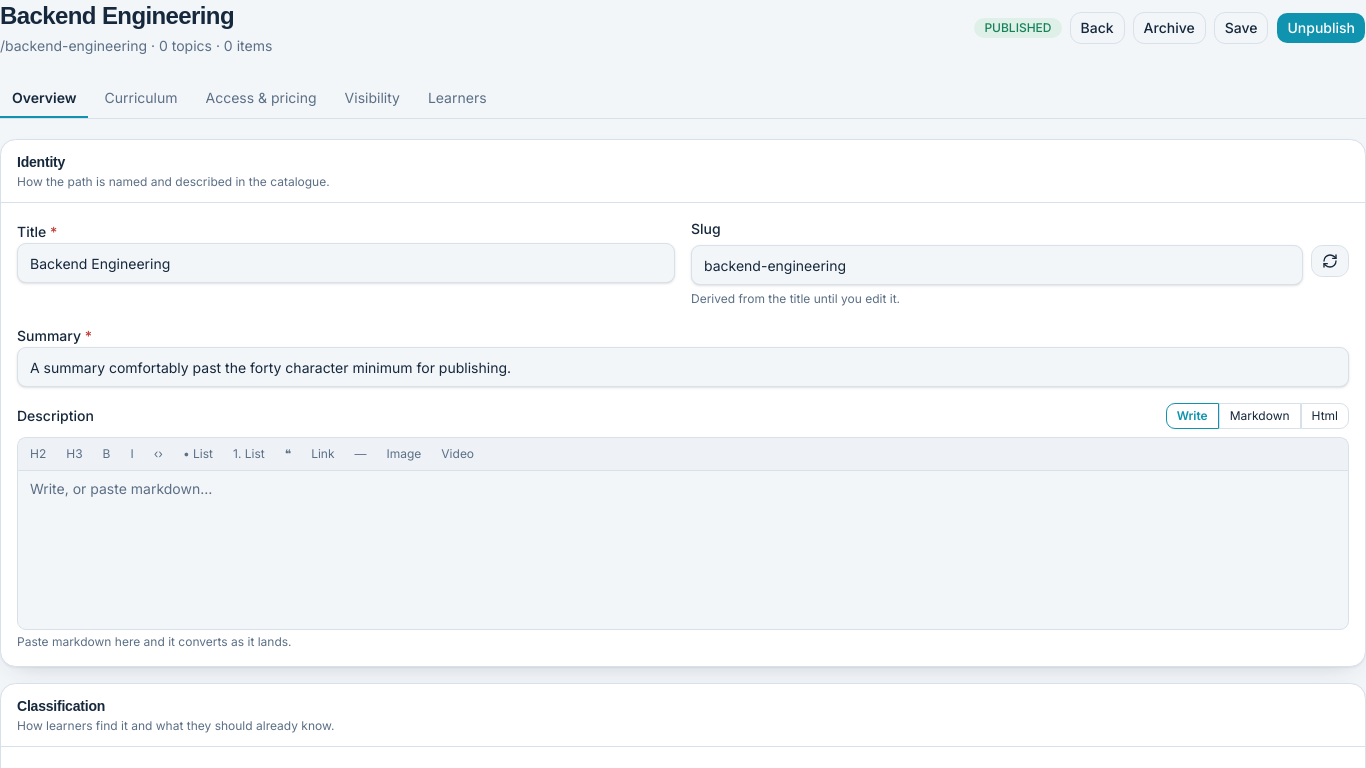
Test: PathDetailClient — Author field gating › still renders the Author control for an admin
Click the tab "Visibility" at (372,99), box left=333, top=80, right=412, bottom=118
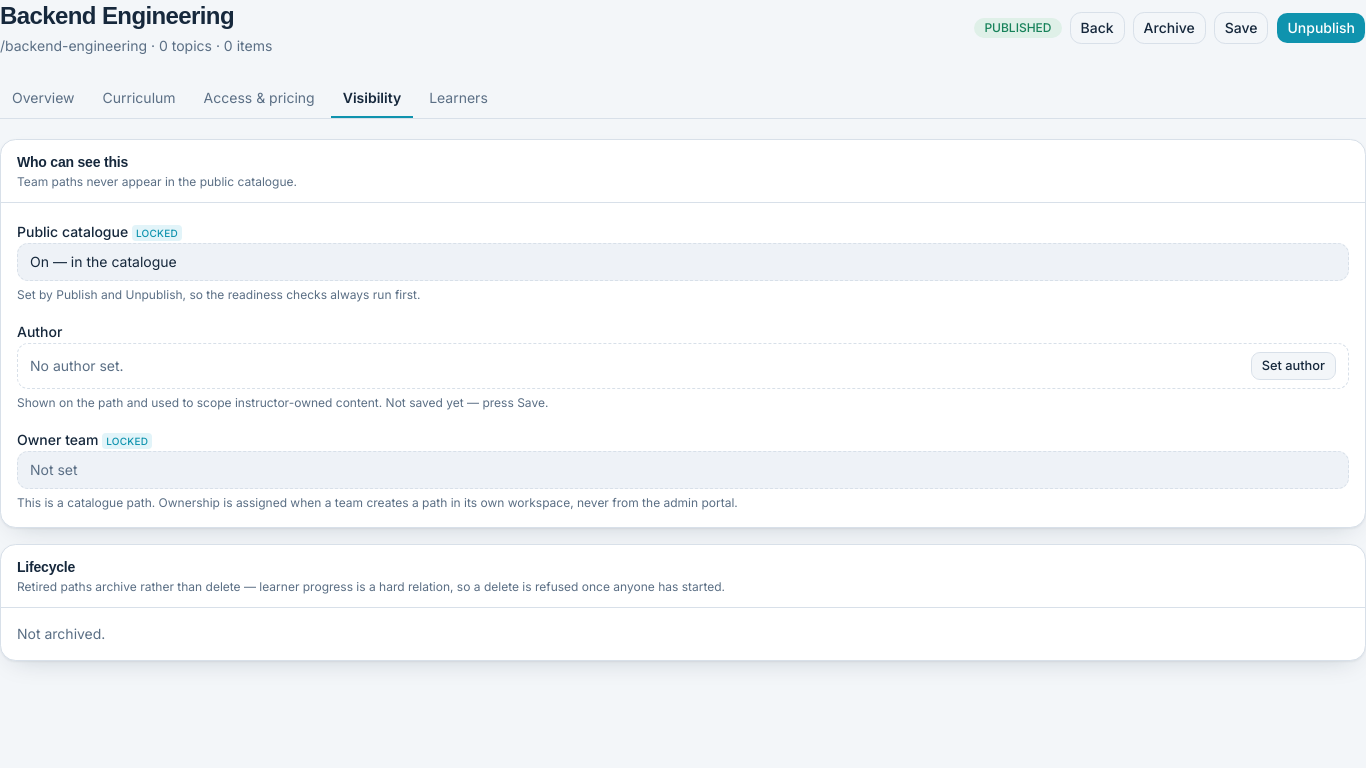
expect the heading "Who can see this" is shown: met, box left=17, top=154, right=128, bottom=170
expect the text "Author" is shown: met, box left=17, top=323, right=62, bottom=340
